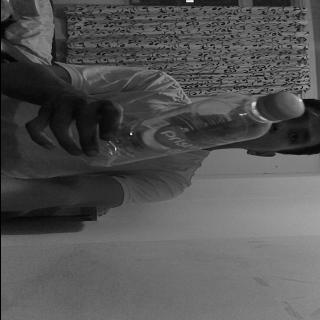plastic_bottles: (75, 92, 303, 167)
